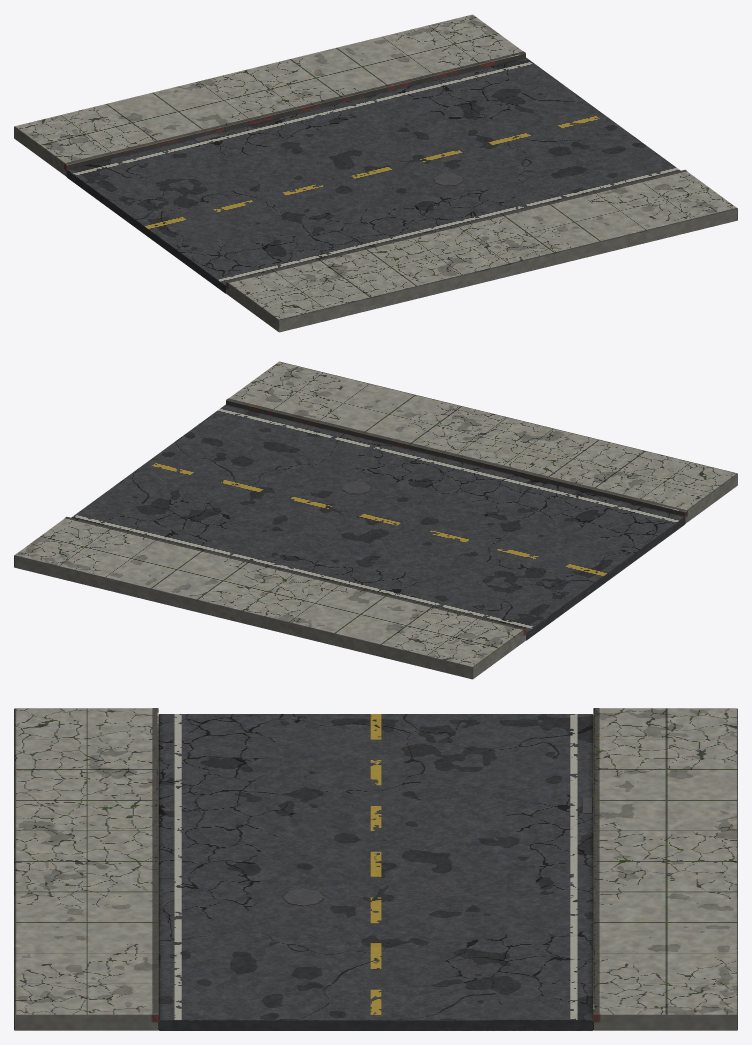
Rendered from Calle_Recto_60.glb.
3 views of the same model, one above another, from view 1: azimuth 30°, elevation 25°; view 2: azimuth 150°, elevation 25°; view 3: azimuth 270°, elevation 25° (orthographic). The views are drawn at different scales.
Parts seen in each view (by area): view 1: Calle_Recto_60; view 2: Calle_Recto_60; view 3: Calle_Recto_60.
Boxes of the visible parts, x1=… form: Calle_Recto_60: x1=14, y1=14, x2=737, y2=332; Calle_Recto_60: x1=14, y1=361, x2=737, y2=679; Calle_Recto_60: x1=14, y1=708, x2=737, y2=1030.
Bounding box in the file's own units: 60 × 1.55 × 60.
1 material, 1 textured.
